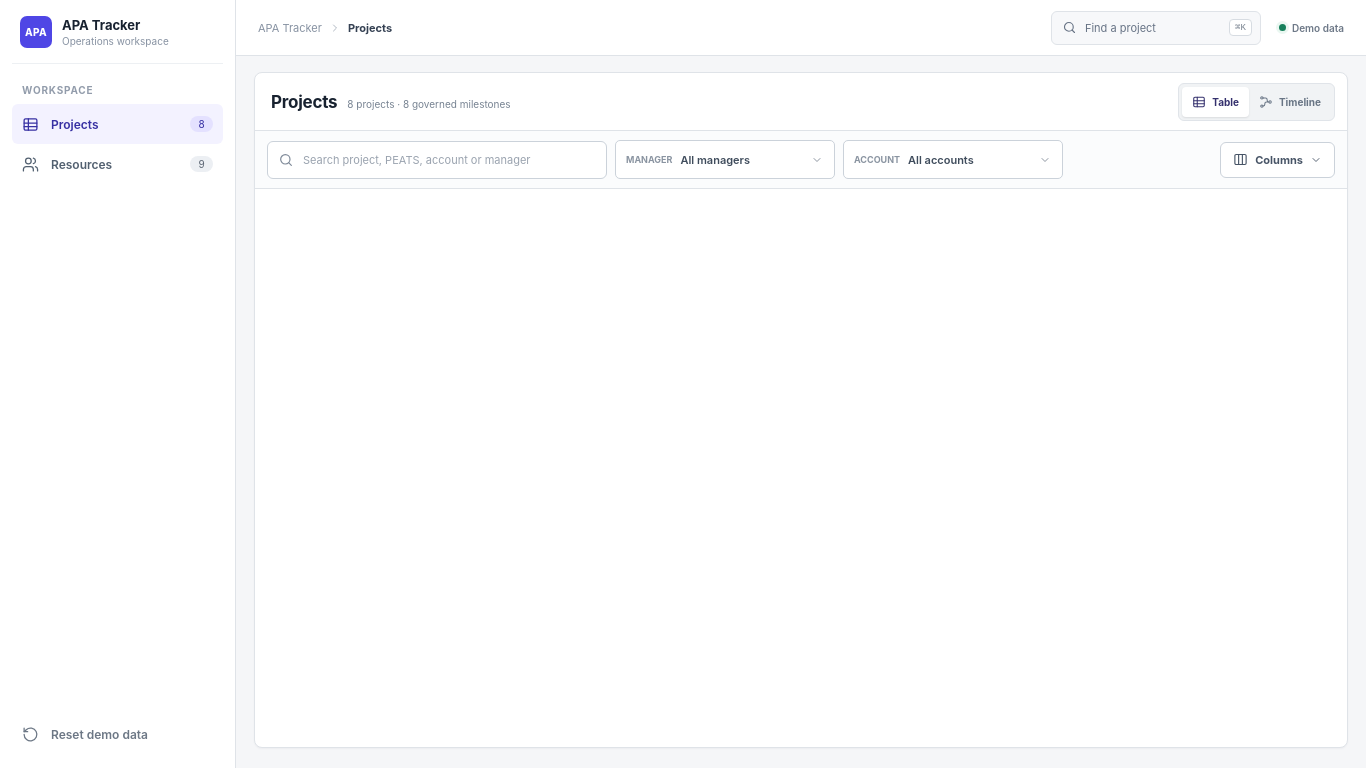
Test: APA Tracker project register › creates a typed portal field without changing the source schema
Step 1. Click the button "Columns" → {"x": 1278, "y": 160}, box [1220, 142, 1335, 178]
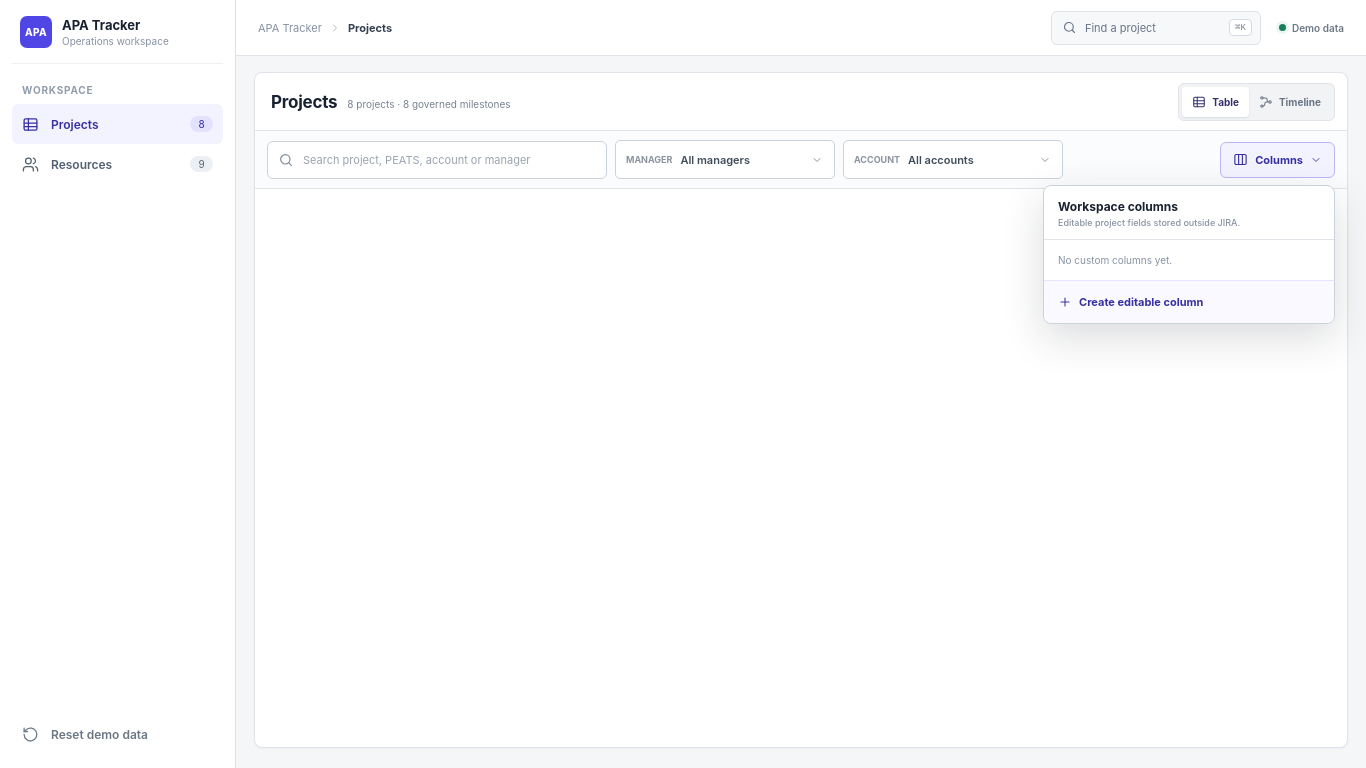
Step 2. Click the button "Create editable column" → {"x": 1189, "y": 301}, box [1044, 280, 1334, 322]
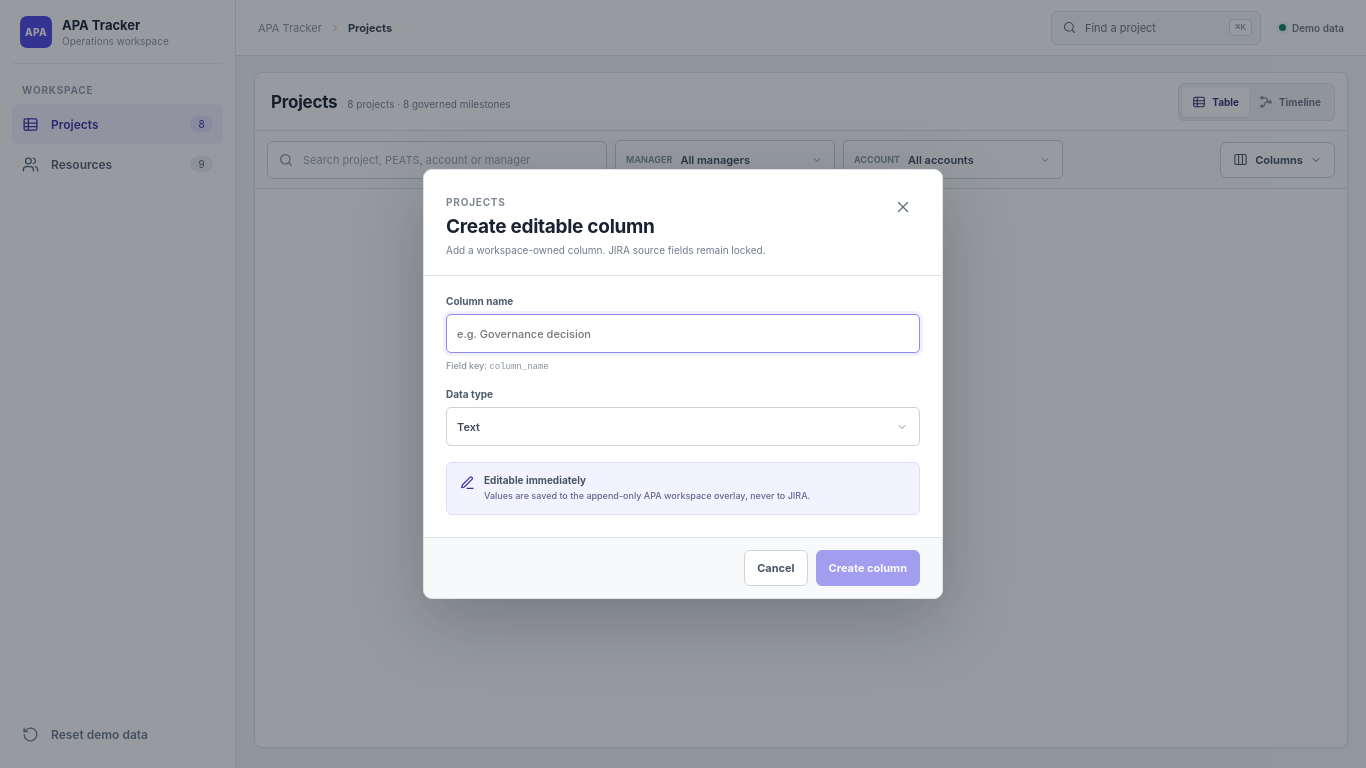
Step 3. Type "Decision owner" into the field with placeholder "e.g. Governance decision" → {"x": 683, "y": 334}, box [446, 314, 920, 354]
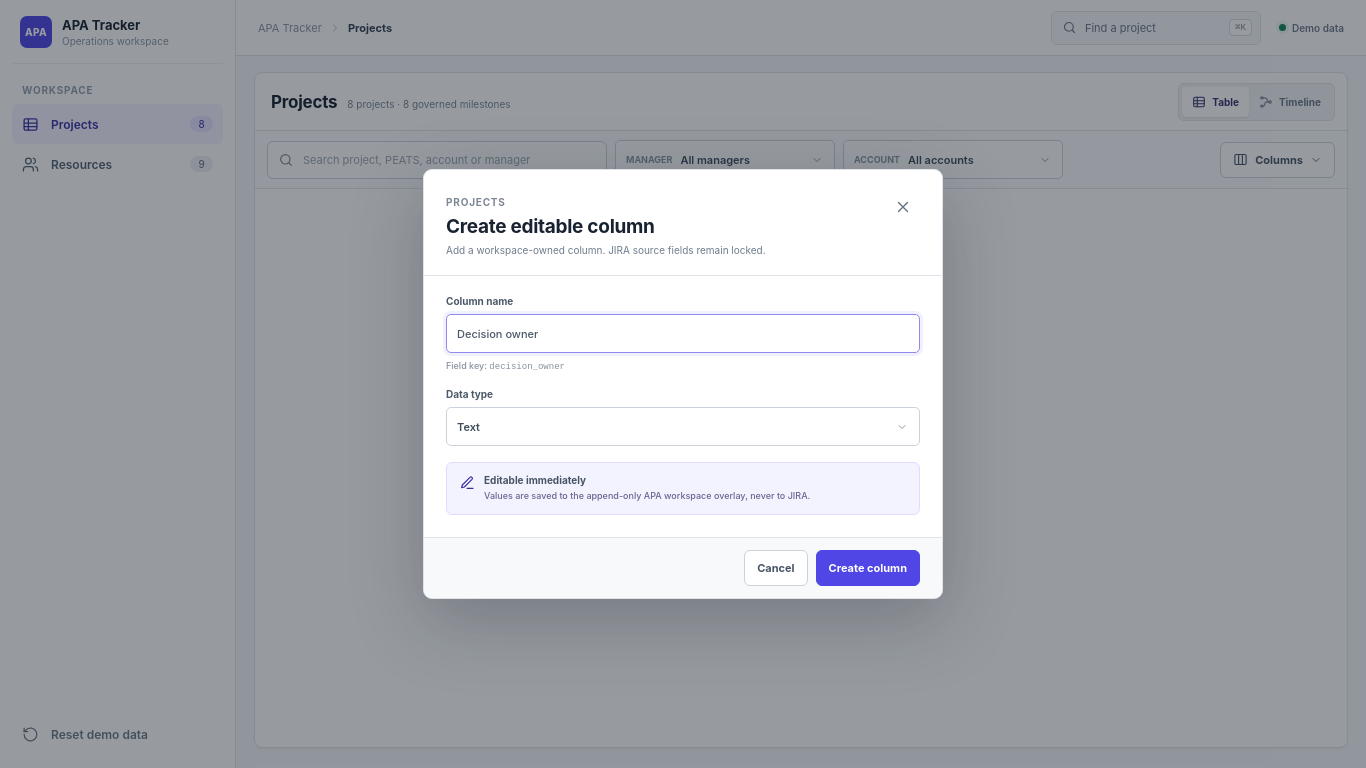
Step 4. Click the button "Create column" → {"x": 868, "y": 568}, box [816, 550, 920, 586]
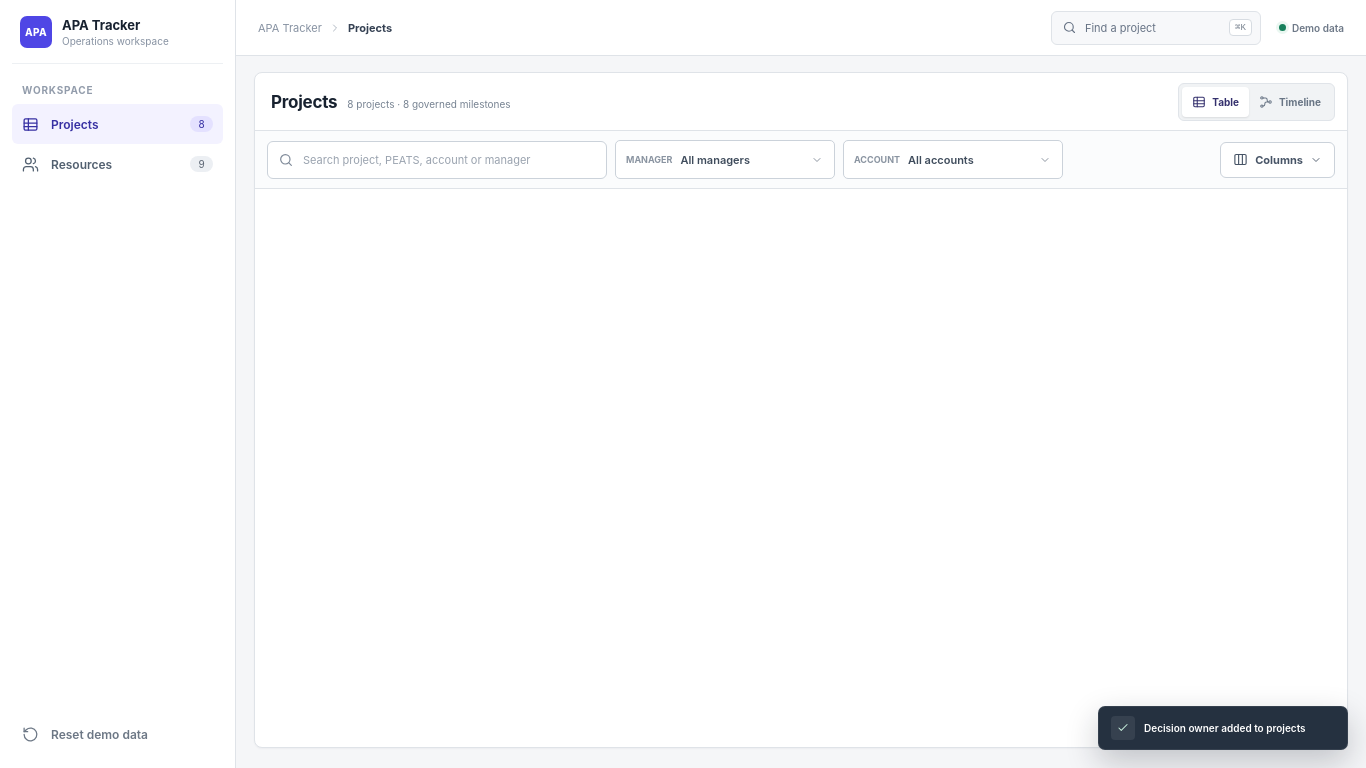
Step 5. Click the button "Columns" → {"x": 1278, "y": 160}, box [1220, 142, 1335, 178]
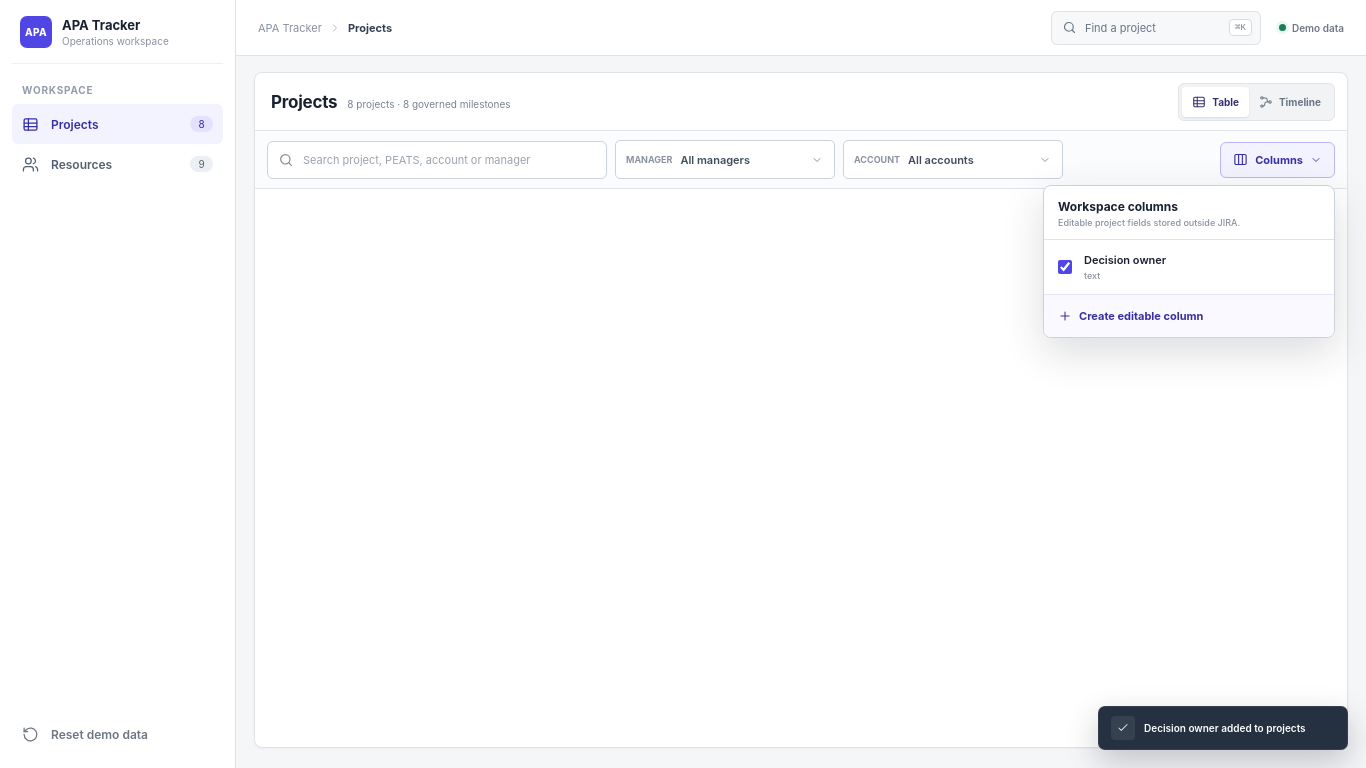
Expected: the text "Decision owner" is shown, [1084, 252, 1166, 266]
